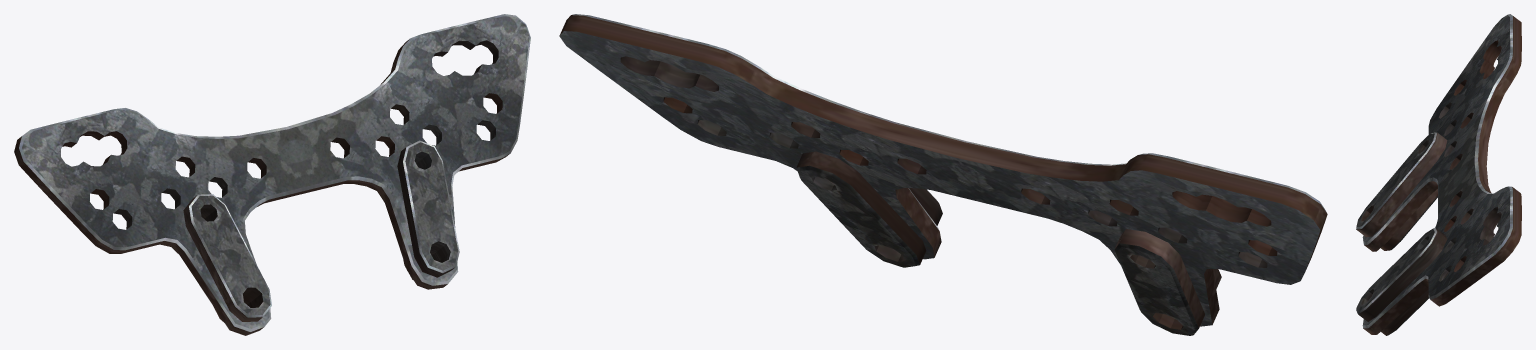
Rendered from bodyholder01.FBX.
3 renders of one model, left to right at view 1: azimuth 30°, elevation 25°; view 2: azimuth 150°, elevation 25°; view 3: azimuth 270°, elevation 25°, orthographic. The views are drawn at different scales.
Visible parts, largest first — view 1: bodyholder01; view 2: bodyholder01; view 3: bodyholder01.
Part boxes in pixels (x1,y1,x2,y2): bodyholder01: [14, 14, 530, 335]; bodyholder01: [559, 14, 1327, 335]; bodyholder01: [1356, 14, 1521, 335].
Bounding box in the file's own units: 0.5698 × 0.1981 × 0.1755.
